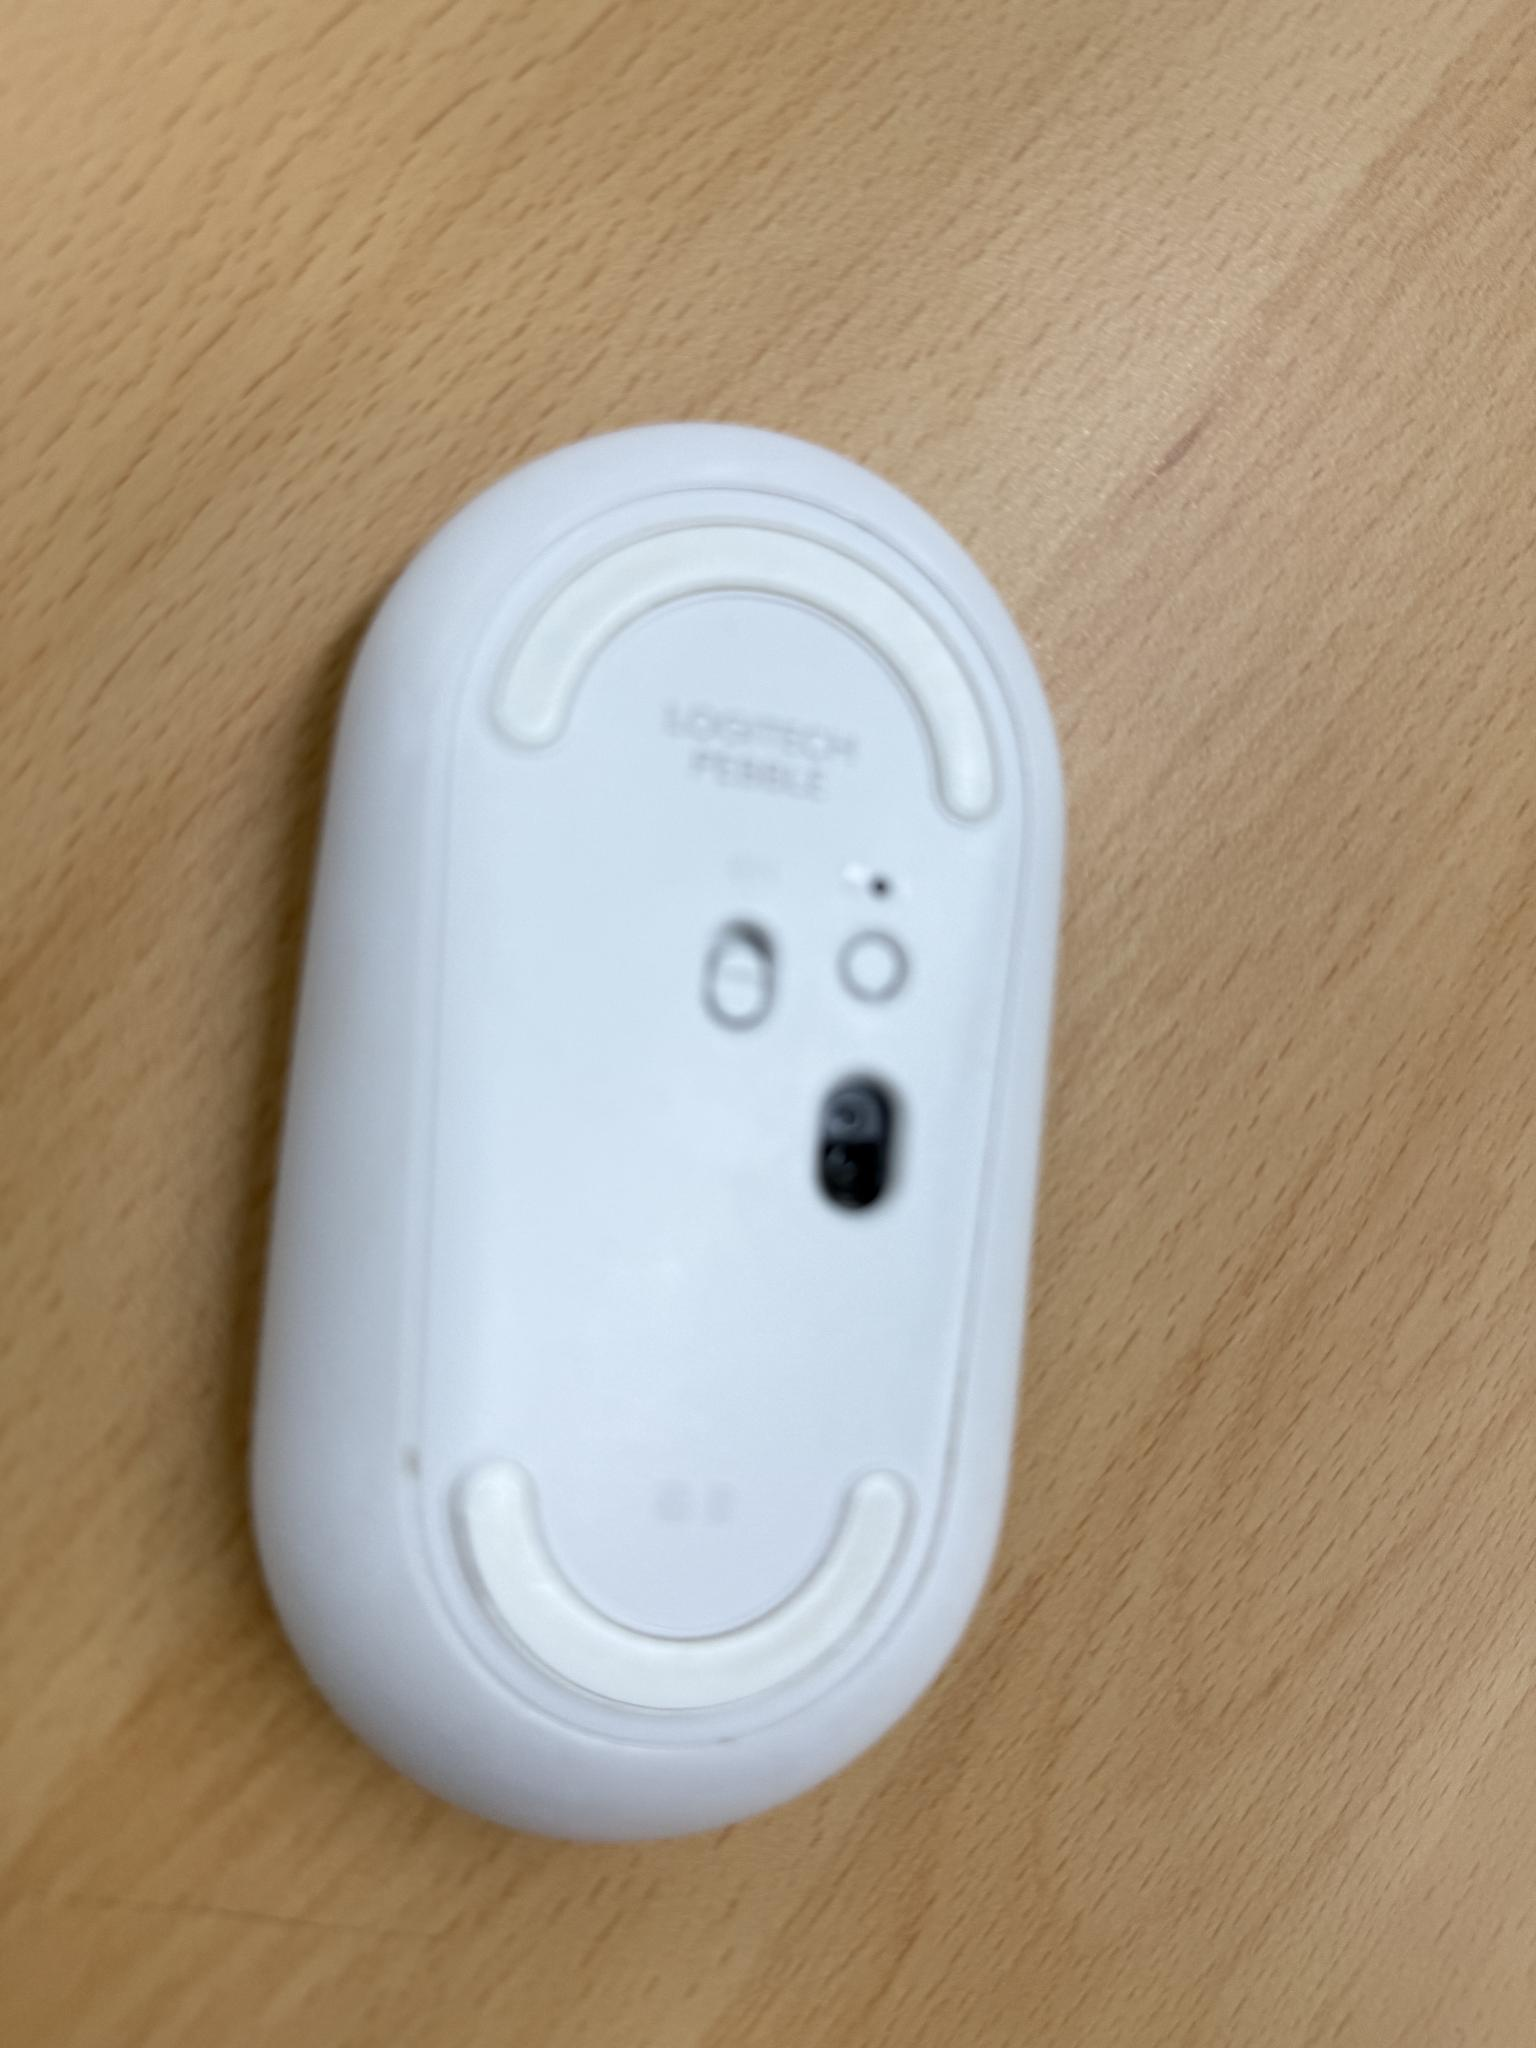back: (237, 413, 1068, 1853)
